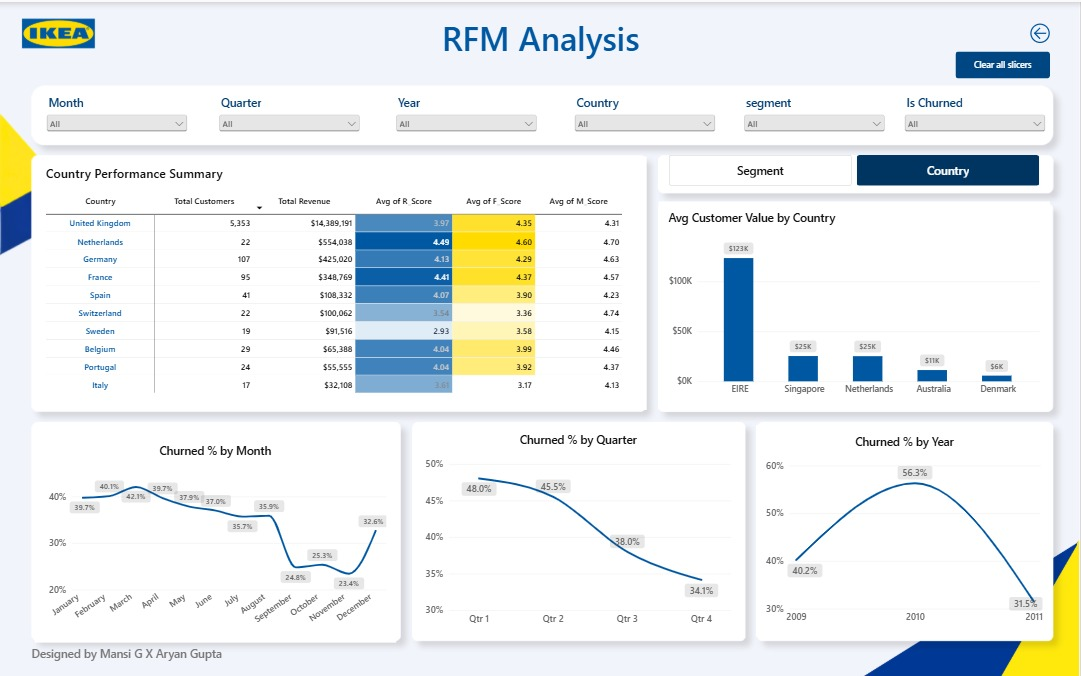

This screenshot's page, from the dashboard's own definition file:
{"tool":"powerbi","page":{"name":"RFM Analysis","canvas":[1750,1100],"ordinal":2},"visuals":[{"type":"slicer","fields":{"Values":["Sheet1.InvoiceDate.Variation.Date Hierarchy.Month"]},"box":[69.7,149.7,237.5,90.3],"z":0},{"type":"columnChart","fields":{"Category":["Sheet1.Country"],"Y":["Sheet1.Avg Customer Value"]},"box":[1066.8,323.2,634.3,335.4],"z":0,"group":"g2"},{"type":"lineChart","fields":{"Category":["Sheet1.InvoiceDate.Variation.Date Hierarchy.Month"],"Y":["Sheet1.Churned %"]},"box":[56.8,699.5,585.9,338.1],"z":0,"group":"g1"},{"type":"slicer","fields":{"Values":["Sheet1.InvoiceDate.Variation.Date Hierarchy.Year"]},"box":[637.5,149.7,237.5,90.3],"z":1000},{"type":"pivotTable","title":"Country Performance Summary","fields":{"Rows":["Sheet1.Country"],"Values":["Sheet1.Total Customers","Sheet1.Total Revenue","Avg(Sheet1.R_Score)","Avg(Sheet1.F_Score)","Avg(Sheet1.M_Score)"]},"box":[59.4,250.4,989.1,410.7],"z":1000,"group":"g2"},{"type":"lineChart","fields":{"Category":["Sheet1.InvoiceMonth.Variation.Date Hierarchy.Quarter"],"Y":["Sheet1.Churned %"]},"box":[674.6,682.5,527.3,347.5],"z":1000,"group":"g1"},{"type":"slicer","fields":{"Values":["Sheet1.Country"]},"box":[926.6,149.7,237.5,90.3],"z":2000},{"type":"lineChart","fields":{"Category":["Sheet1.InvoiceMonth.Variation.Date Hierarchy.Year"],"Y":["Sheet1.Churned %"]},"box":[1226.2,685.1,481.2,342.6],"z":2000,"group":"g1"},{"type":"slicer","fields":{"Values":["Sheet1.segment"]},"box":[1200.2,149.7,237.5,90.3],"z":3000},{"type":"slicer","fields":{"Values":["Sheet1.IsChurned"]},"box":[1460.9,149.7,237.5,90.3],"z":4000},{"type":"slicer","fields":{"Values":["Sheet1.InvoiceDate.Variation.Date Hierarchy.Quarter"]},"box":[351,149.7,237.5,90.3],"z":5000},{"type":"group","id":"g1","title":"Customer","box":[56.8,682.5,1650.6,355.2],"z":6000},{"type":"bookmarkNavigator","box":[1083.7,247.2,600,50],"z":8000},{"type":"textbox","box":[51,1042.5,352.4,58.3],"z":9000},{"type":"image","box":[0,0,189.5,102.1],"z":10000},{"type":"textbox","box":[582.2,21.9,585.7,80.2],"z":11000},{"type":"actionButton","box":[1635.5,21.9,99.6,58.3],"z":12000},{"type":"actionButton","box":[1548,80.2,153.1,43.7],"z":13000},{"type":"group","id":"g2","title":"Country","box":[59.4,250.4,1641.7,410.7],"z":14000}]}

Visuals, with their boxes in screenshot pixels (x1, y1, x2, y2), scaled from the page's 1750x1100 canvas onto the 1081x676 screenshot:
slicer - Sheet1.InvoiceDate.Variation.Date Hierarchy.Month: [left=43, top=92, right=190, bottom=147]
columnChart - Sheet1.Country x Sheet1.Avg Customer Value: [left=659, top=199, right=1051, bottom=405]
lineChart - Sheet1.InvoiceDate.Variation.Date Hierarchy.Month x Sheet1.Churned %: [left=35, top=430, right=397, bottom=638]
slicer - Sheet1.InvoiceDate.Variation.Date Hierarchy.Year: [left=394, top=92, right=540, bottom=147]
"Country Performance Summary" pivotTable: [left=37, top=154, right=648, bottom=406]
lineChart - Sheet1.InvoiceMonth.Variation.Date Hierarchy.Quarter x Sheet1.Churned %: [left=417, top=419, right=742, bottom=633]
slicer - Sheet1.Country: [left=572, top=92, right=719, bottom=147]
lineChart - Sheet1.InvoiceMonth.Variation.Date Hierarchy.Year x Sheet1.Churned %: [left=757, top=421, right=1055, bottom=632]
slicer - Sheet1.segment: [left=741, top=92, right=888, bottom=147]
slicer - Sheet1.IsChurned: [left=902, top=92, right=1049, bottom=147]
slicer - Sheet1.InvoiceDate.Variation.Date Hierarchy.Quarter: [left=217, top=92, right=364, bottom=147]
"Customer" group: [left=35, top=419, right=1055, bottom=638]
bookmarkNavigator: [left=669, top=152, right=1040, bottom=183]
textbox: [left=32, top=641, right=249, bottom=675]
image: [left=0, top=0, right=117, bottom=63]
textbox: [left=360, top=13, right=721, bottom=63]
actionButton: [left=1010, top=13, right=1072, bottom=49]
actionButton: [left=956, top=49, right=1051, bottom=76]
"Country" group: [left=37, top=154, right=1051, bottom=406]
